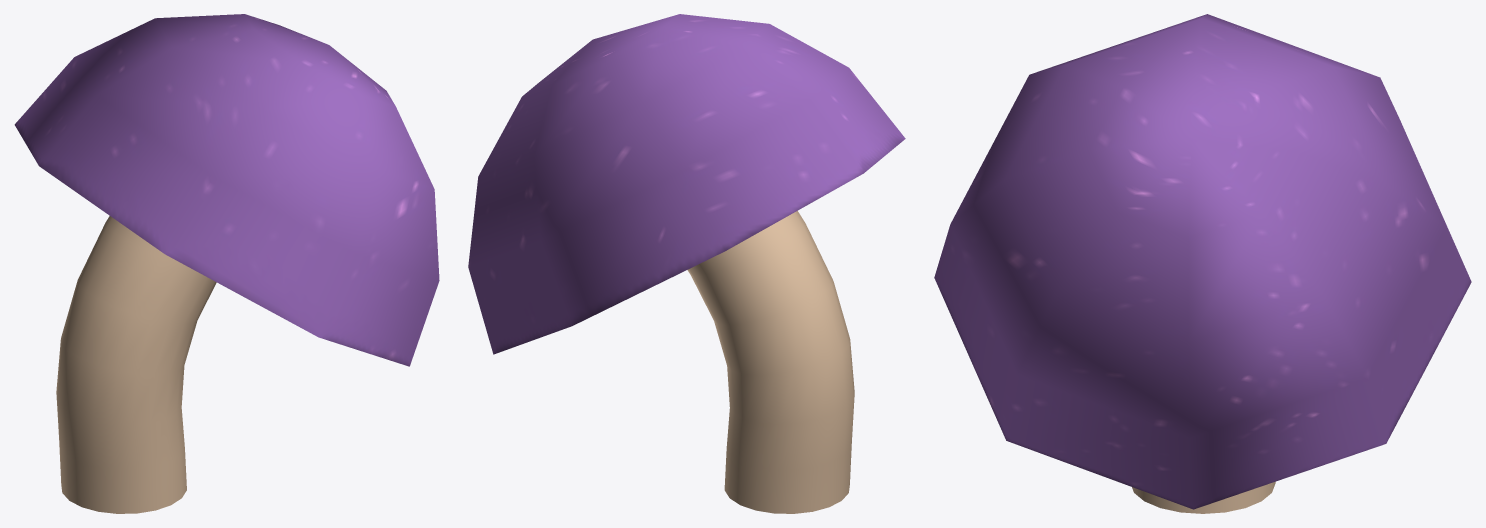
The model's file is MushroomB.fbx.
The picture shows the model from 3 angles, left to right: view 1: azimuth 30°, elevation 25°; view 2: azimuth 150°, elevation 25°; view 3: azimuth 270°, elevation 25°; orthographic projection. The views are drawn at different scales.
Visible parts, largest first — view 1: pSphere2; view 2: pSphere2; view 3: pSphere2.
Part boxes in pixels (x1=…): pSphere2: x1=14, y1=14, x2=439, y2=513; pSphere2: x1=468, y1=14, x2=905, y2=513; pSphere2: x1=934, y1=14, x2=1471, y2=513.
Size of the model in its own units: 1.81 by 2.02 by 2.
1 material, 1 textured.
